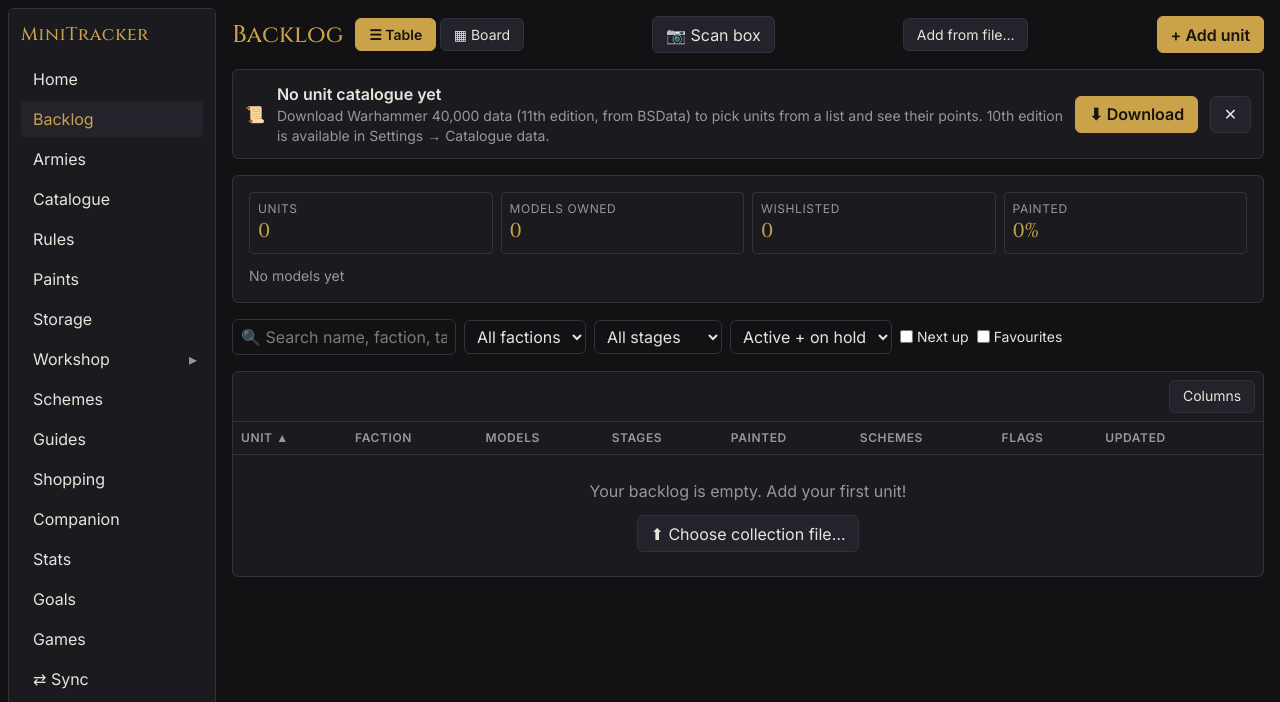
Test case: after adding an item the quantity goes back to 1 and the alert to 0
Click the button "Workshop" at (100, 359), box [21, 341, 179, 377]
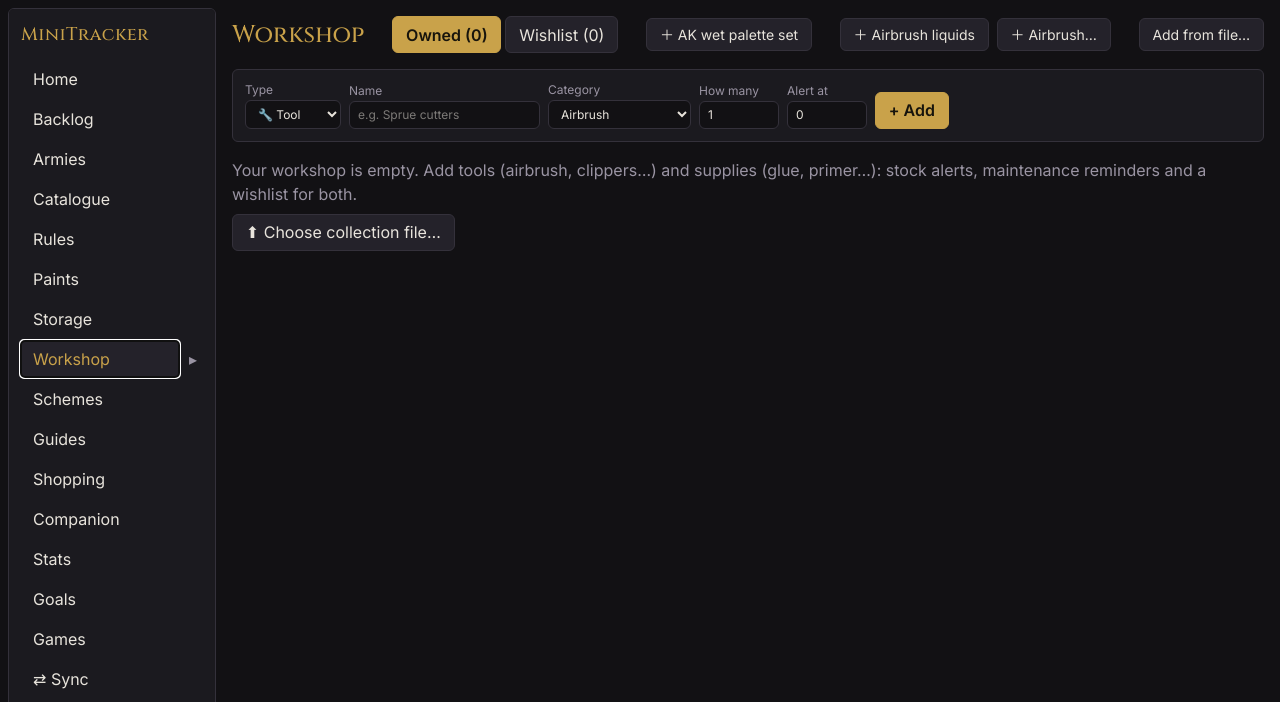
Type "Sprue cutters" into the field labelled "Name" at (444, 115), box [349, 101, 540, 129]
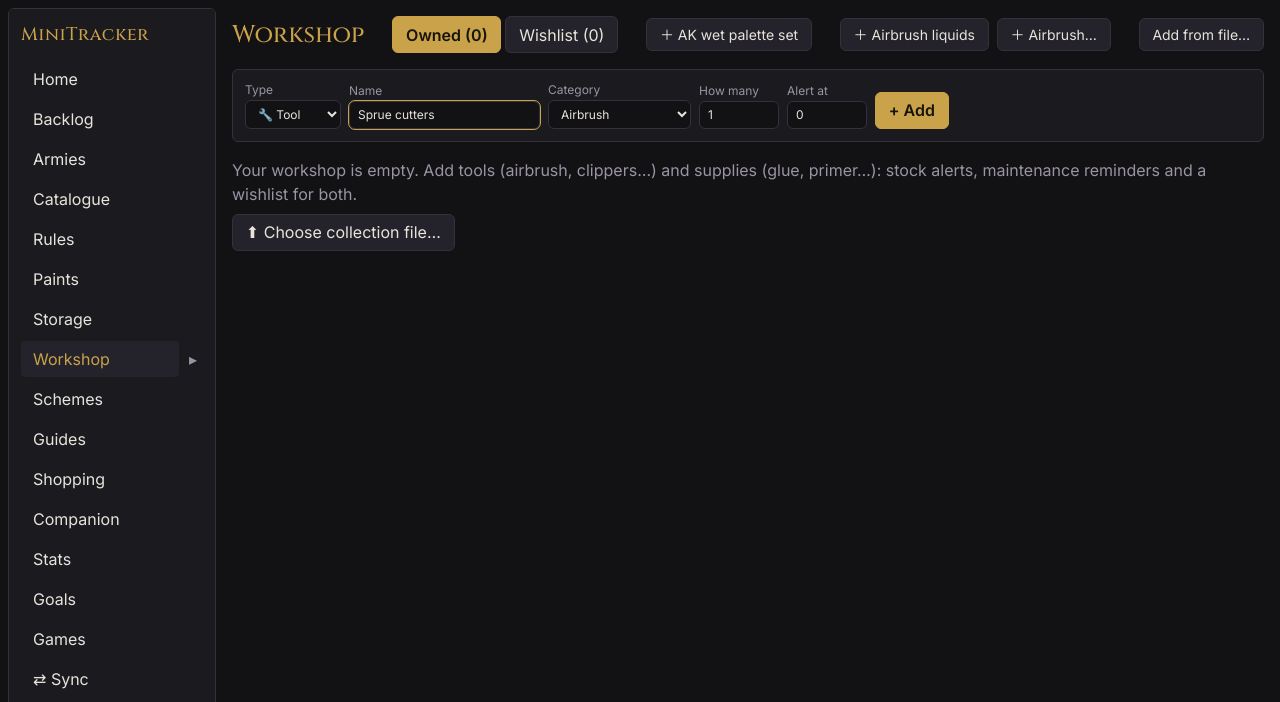
Replace the text in the number field labelled "How many" with "4" at (739, 115), box [699, 101, 779, 129]
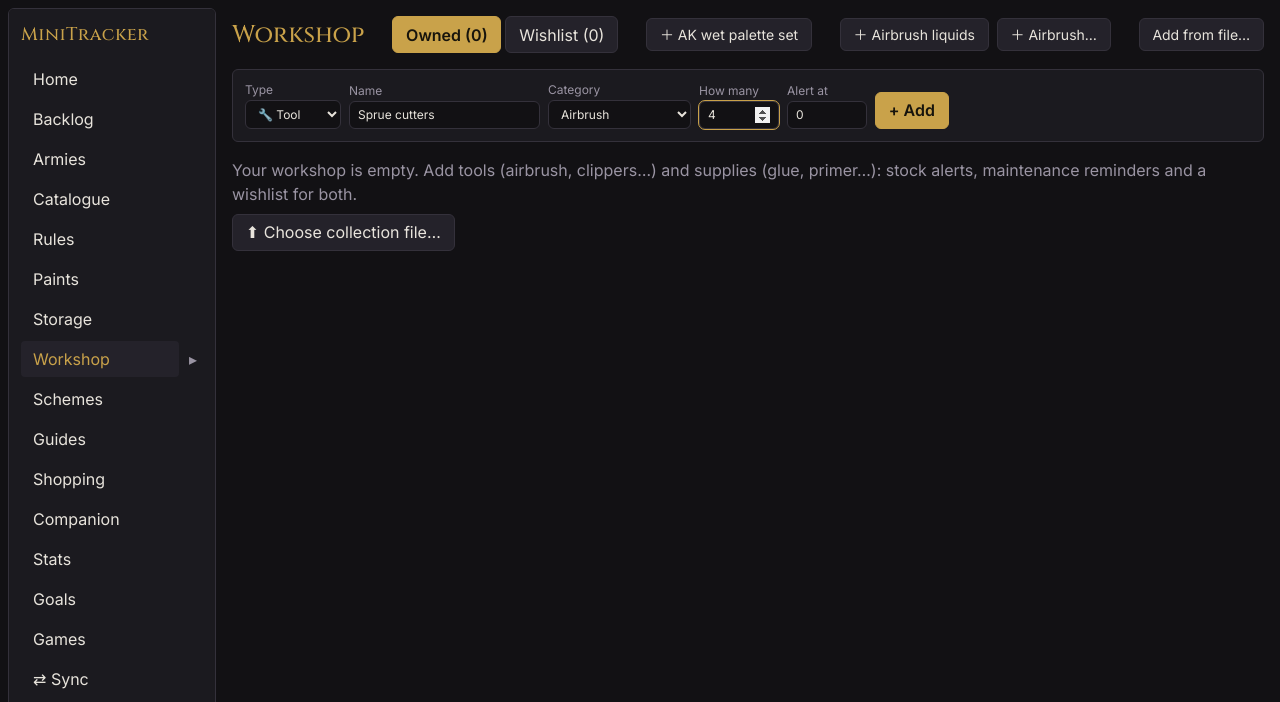
Replace the text in the number field labelled "Alert at" with "2" at (827, 115), box [787, 101, 867, 129]
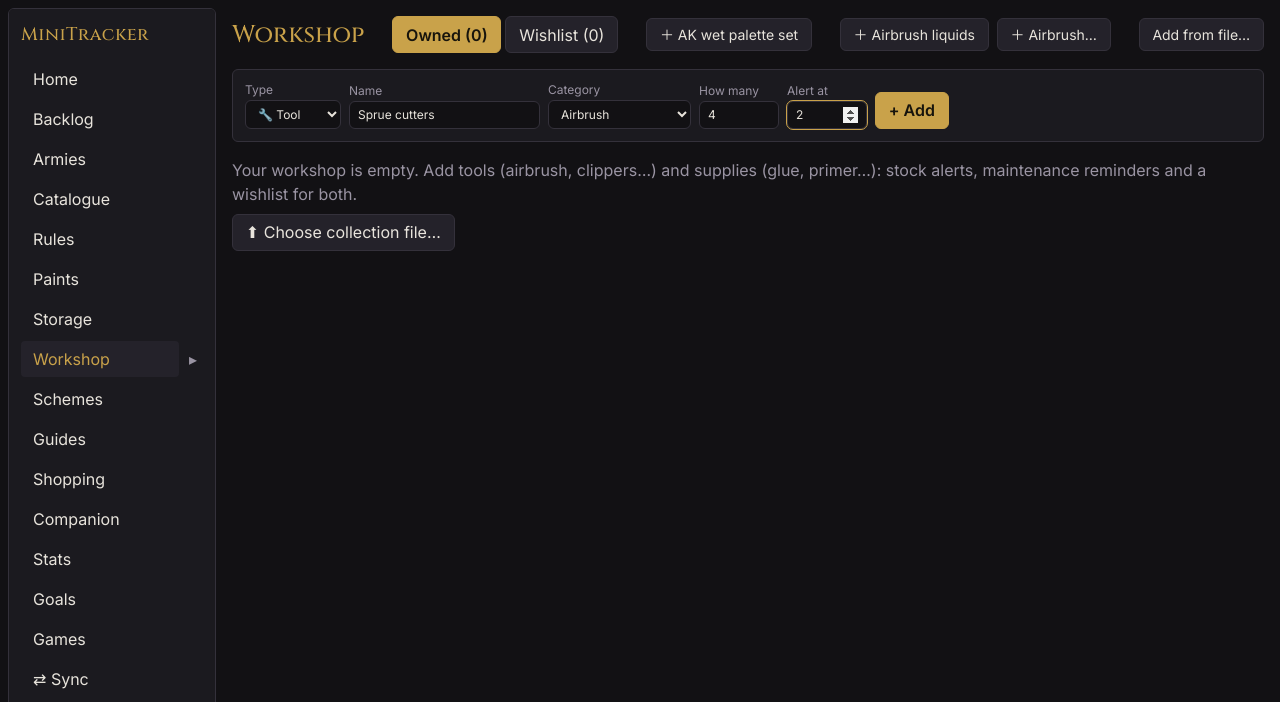
Click the button "+ Add" at (912, 110), box [875, 92, 949, 129]
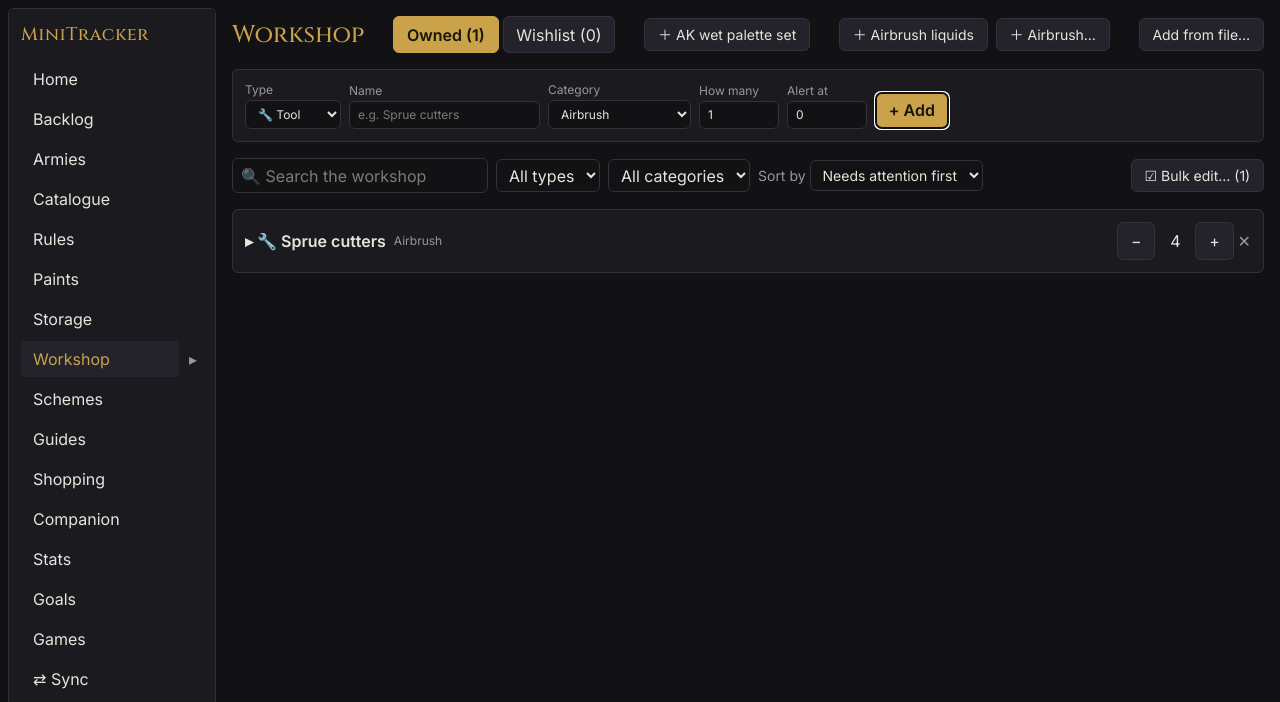
Expected: the number field labelled "How many" holds "1", [699, 101, 779, 129]
Expected: the number field labelled "Alert at" holds "0", [787, 101, 867, 129]
